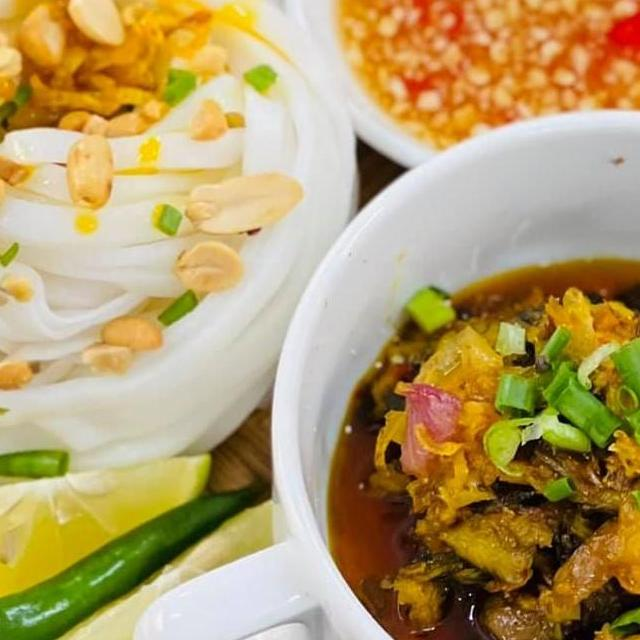mi: (0, 0, 362, 524)
